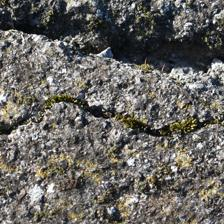Crack: (73, 92, 144, 129), (188, 179, 224, 224)
